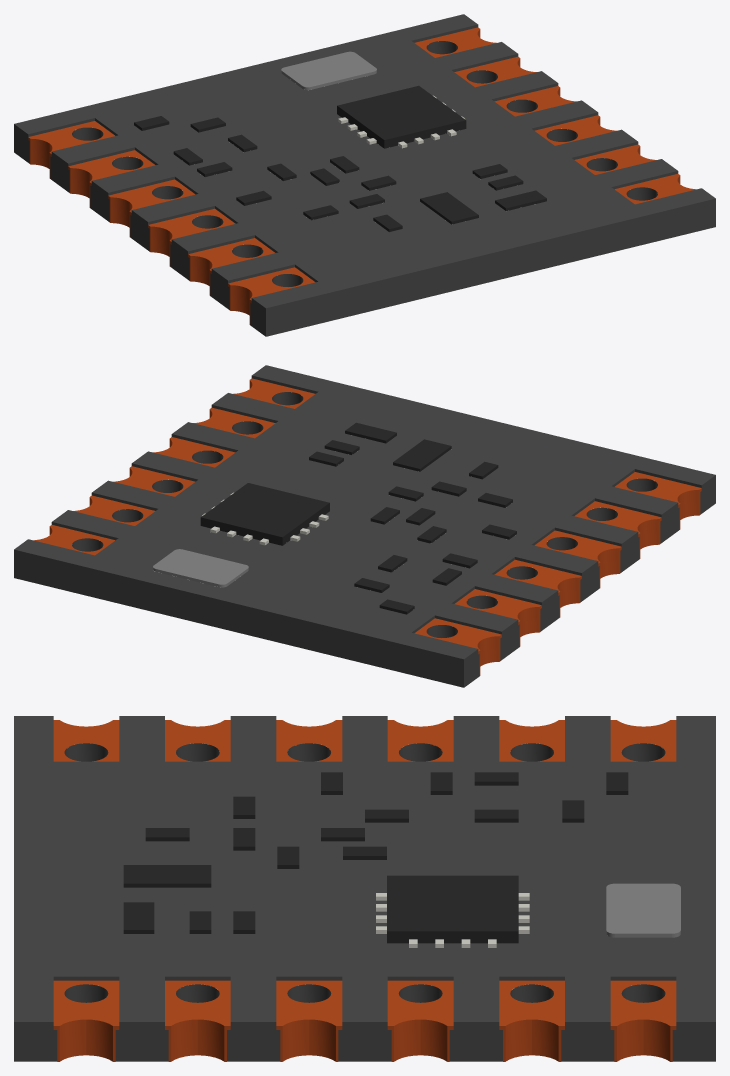
File: kc-zeta-433-so_smd.glb
The picture shows the model from 3 angles, top to bottom: view 1: azimuth 30°, elevation 25°; view 2: azimuth 150°, elevation 25°; view 3: azimuth 270°, elevation 25°; orthographic projection. The views are drawn at different scales.
Visible parts, largest first — view 1: 0.08333333333333333_0.08333333333333333_0.08333333333333333_, 0.4166666666666667_0.08333333333333333_0_0, 0_0_0_0, 0.25_0.25_0.25_0; view 2: 0.08333333333333333_0.08333333333333333_0.08333333333333333_, 0.4166666666666667_0.08333333333333333_0_0, 0_0_0_0, 0.25_0.25_0.25_0; view 3: 0.08333333333333333_0.08333333333333333_0.08333333333333333_, 0.4166666666666667_0.08333333333333333_0_0, 0_0_0_0, 0.25_0.25_0.25_0, 0.6666666666666666_0.6666666666666666_0.5833333333333334_0.8.
Boxes of the visible parts, <box> form: 0.08333333333333333_0.08333333333333333_0.08333333333333333_: <box>14,14,715,336</box>; 0.4166666666666667_0.08333333333333333_0_0: <box>28,27,695,324</box>; 0_0_0_0: <box>134,85,546,231</box>; 0.25_0.25_0.25_0: <box>281,51,376,90</box>; 0.08333333333333333_0.08333333333333333_0.08333333333333333_: <box>14,365,715,687</box>; 0.4166666666666667_0.08333333333333333_0_0: <box>34,378,701,675</box>; 0_0_0_0: <box>200,422,516,614</box>; 0.25_0.25_0.25_0: <box>153,549,248,587</box>; 0.08333333333333333_0.08333333333333333_0.08333333333333333_: <box>14,716,715,1061</box>; 0.4166666666666667_0.08333333333333333_0_0: <box>53,720,676,1061</box>; 0_0_0_0: <box>123,772,628,943</box>; 0.25_0.25_0.25_0: <box>606,883,680,937</box>; 0.6666666666666666_0.6666666666666666_0.5833333333333334_0.8: <box>376,893,529,947</box>.
Size of the model in its own units: 1.65 by 0.13 by 1.6.
